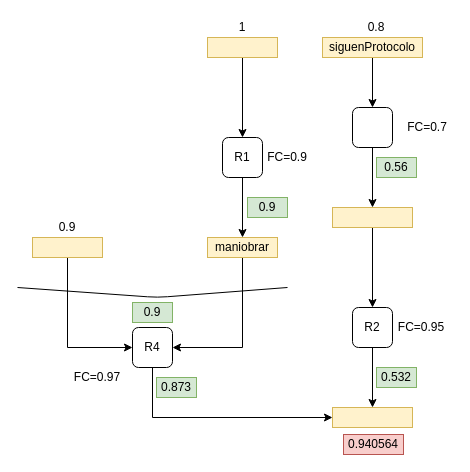
Image size: 470x472. Some labels were removed from this diagram. The centre of each missing label's shape, as x and y in pixels:
"escapar" goes at pixel 372 417.
"mecanismos" goes at pixel 372 217.
"plenaForma" goes at pixel 67 247.
"preparados" goes at pixel 242 47.
"R3" goes at pixel 372 127.
